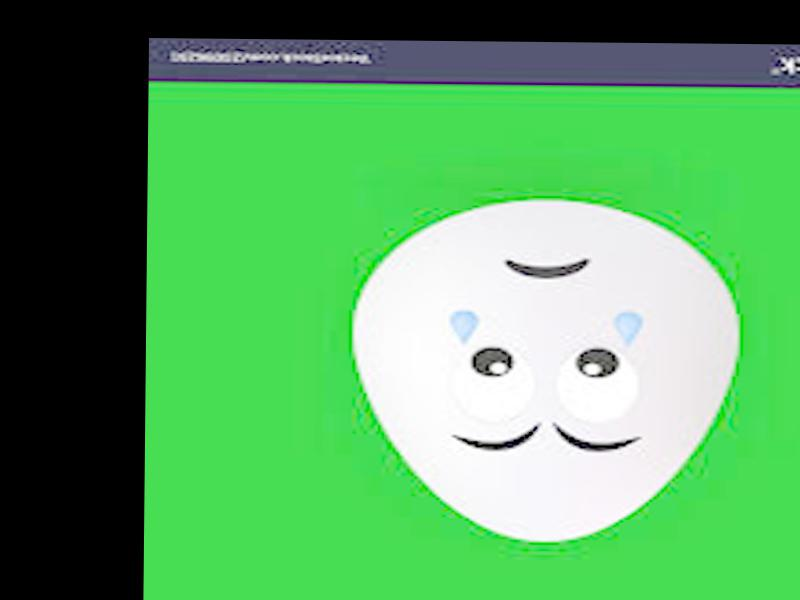Eggs: (354, 199, 743, 540)
